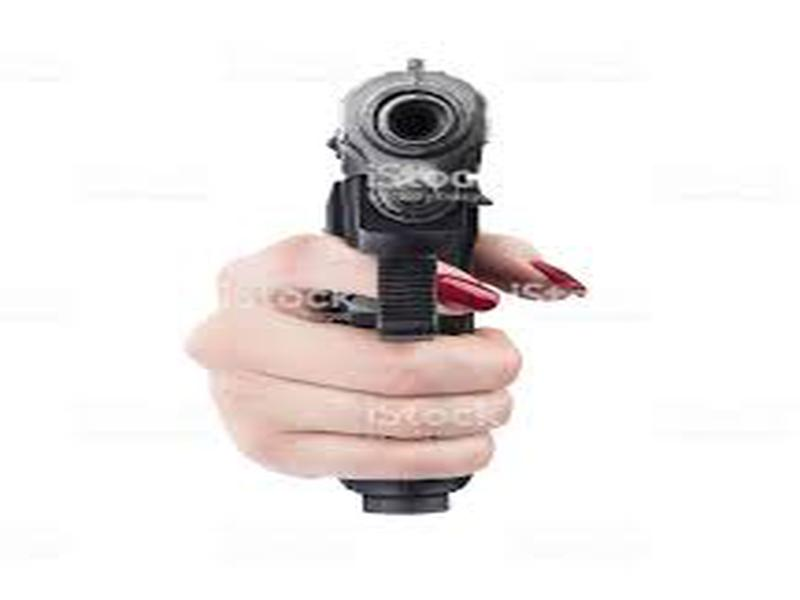gun: (183, 56, 592, 536)
